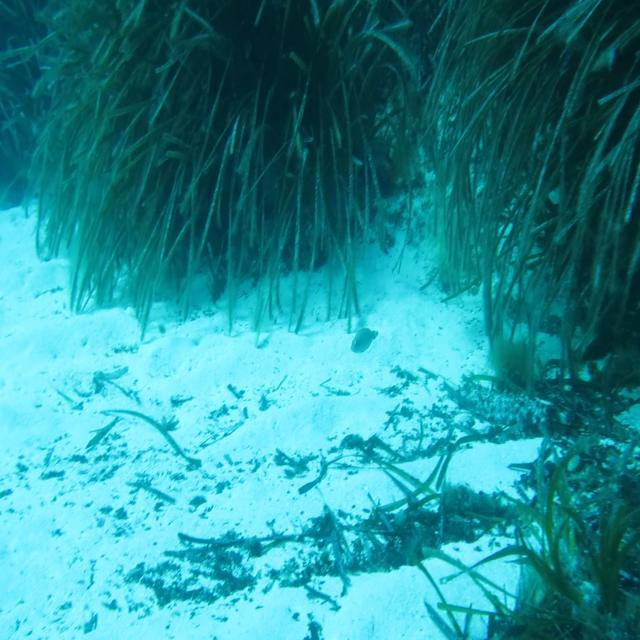BN: (342, 324, 377, 364)
vegetation: (0, 0, 640, 320), (425, 320, 639, 640)
